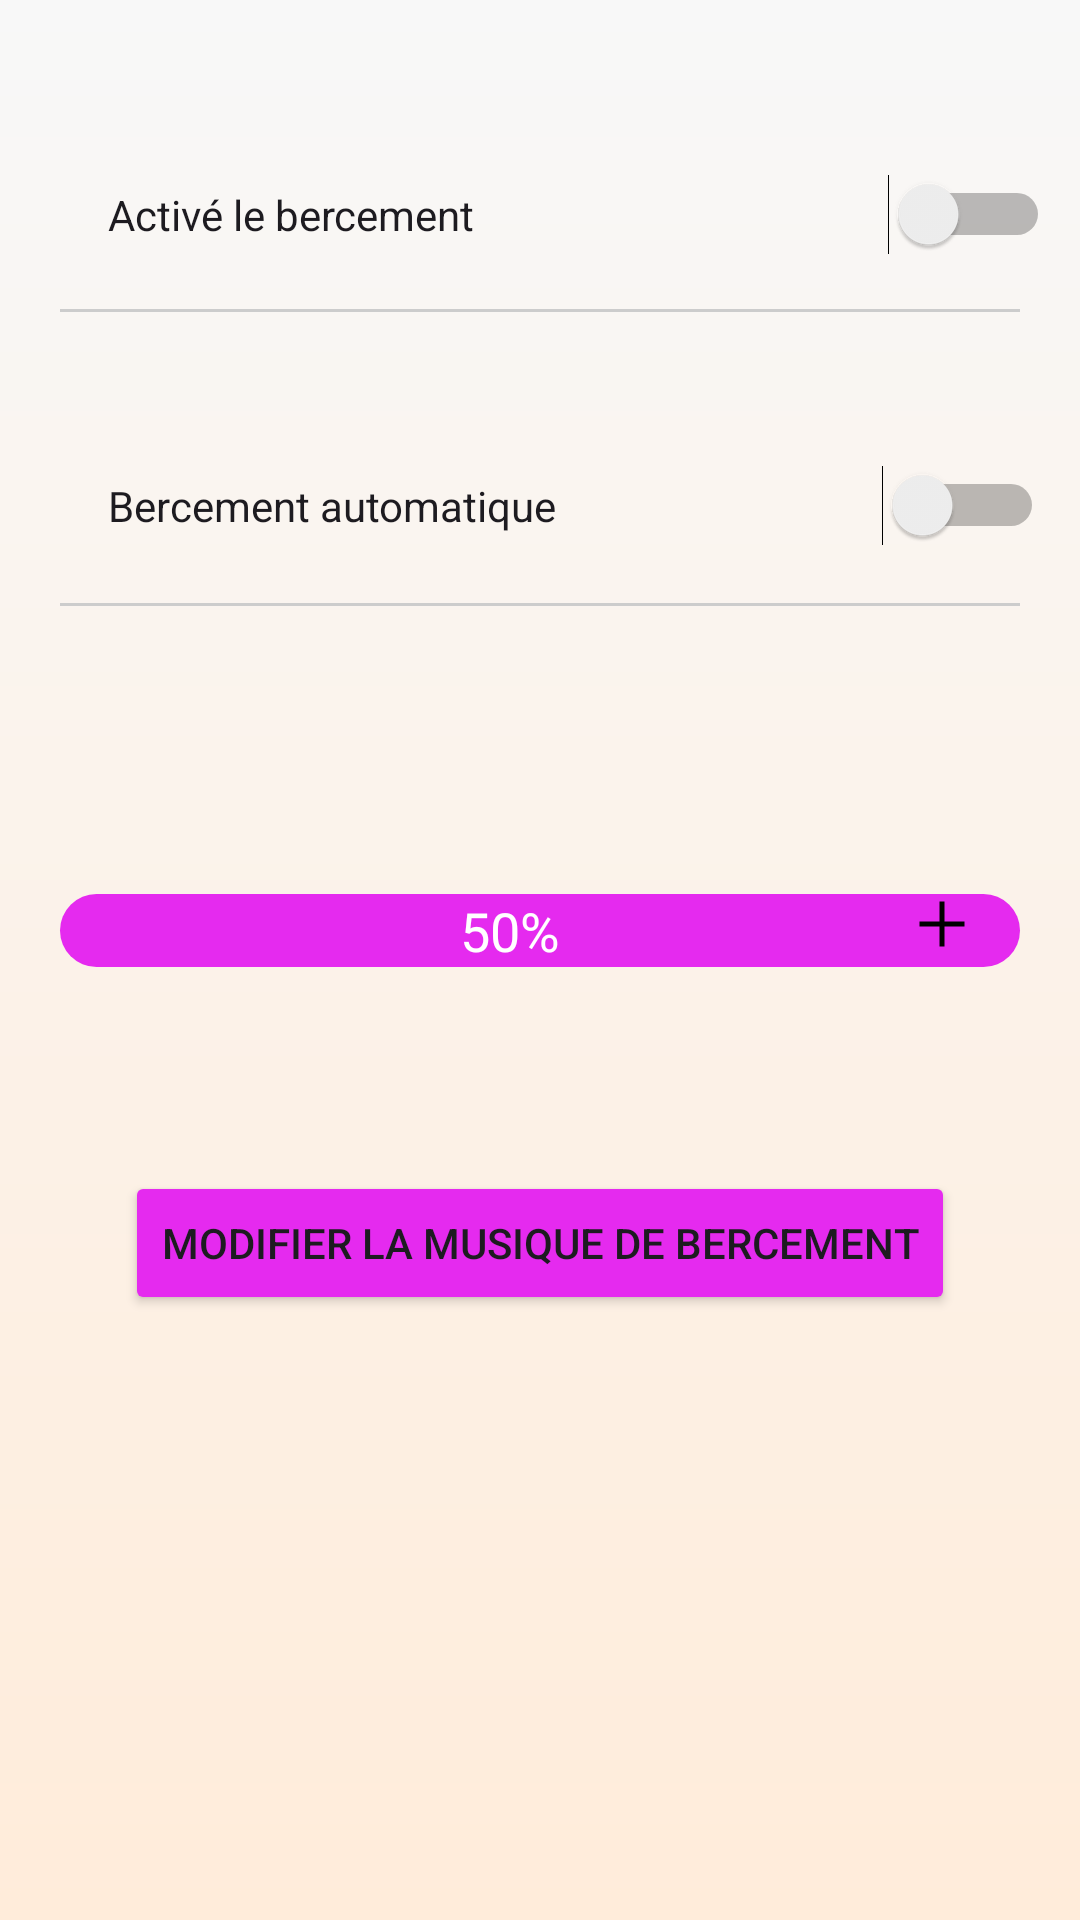

Icon bounding boxes for this 1080*1920 phone screenshot, format (x1, y1, x2, y2):
plus: (919, 901, 965, 947)
